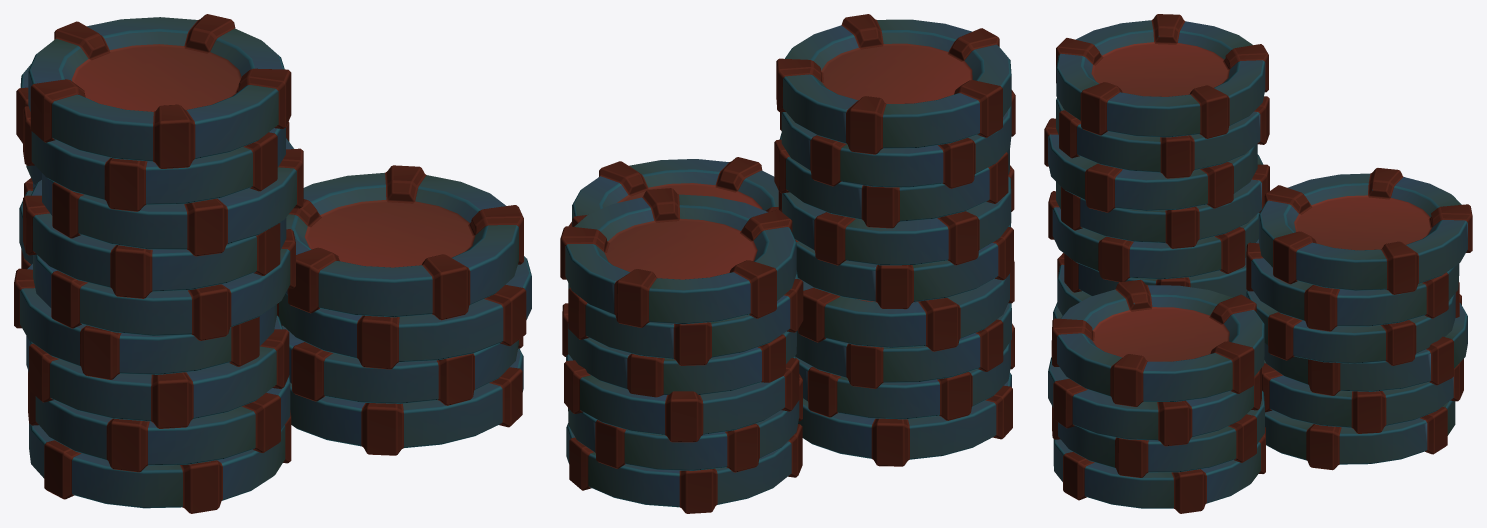
File: SM_Chip_Stack.fbx
The picture shows the model from 3 angles, left to right: view 1: azimuth 30°, elevation 25°; view 2: azimuth 150°, elevation 25°; view 3: azimuth 270°, elevation 25°; orthographic projection. The views are drawn at different scales.
Visible parts, largest first — view 1: SM_Chip_Stack; view 2: SM_Chip_Stack; view 3: SM_Chip_Stack.
Boxes of the visible parts, x1=… form: SM_Chip_Stack: x1=14, y1=14, x2=531, y2=513; SM_Chip_Stack: x1=560, y1=14, x2=1015, y2=513; SM_Chip_Stack: x1=1044, y1=14, x2=1472, y2=513.
Bounding box in the file's own units: 30.97 × 24.7 × 29.85.
1 material, 1 textured.
